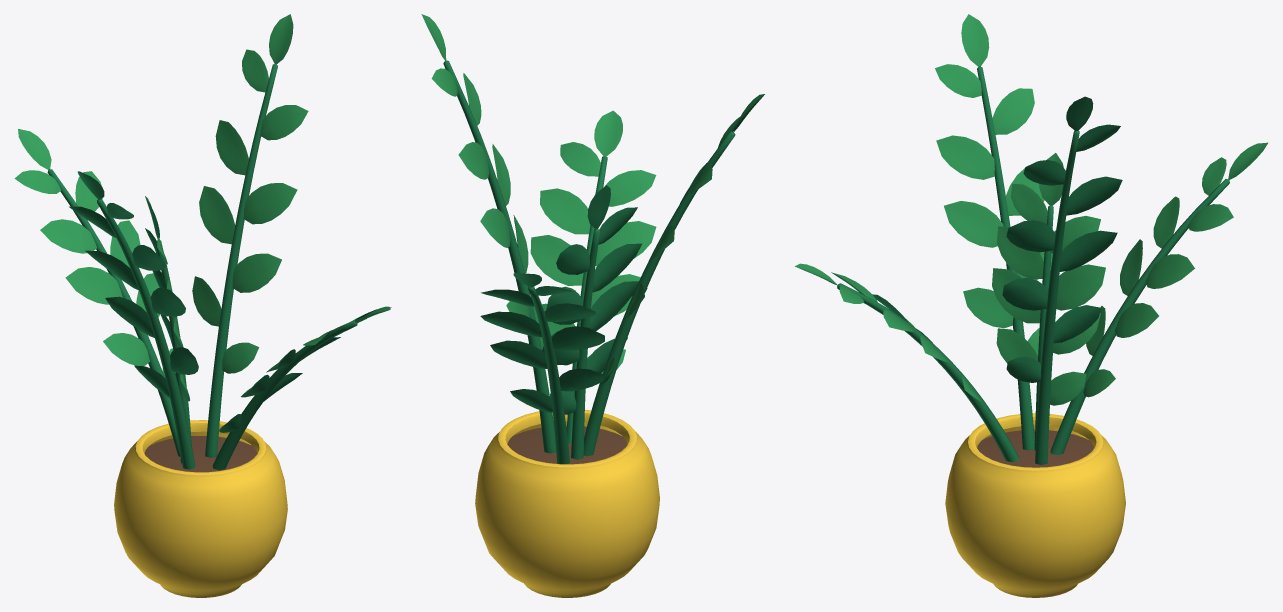
File: planta_zamioculca.glb
The picture shows the model from 3 angles, left to right: view 1: azimuth 30°, elevation 25°; view 2: azimuth 150°, elevation 25°; view 3: azimuth 270°, elevation 25°; orthographic projection. The views are drawn at different scales.
Visible parts, largest first — view 1: planta_zamioculca; view 2: planta_zamioculca; view 3: planta_zamioculca.
Part boxes in pixels (bbox=[...]): planta_zamioculca: bbox=[14, 14, 391, 597]; planta_zamioculca: bbox=[421, 14, 764, 597]; planta_zamioculca: bbox=[795, 14, 1267, 597].
Bounding box in the file's own units: 0.3437 × 0.64 × 0.5088.
1 material, 1 textured.
